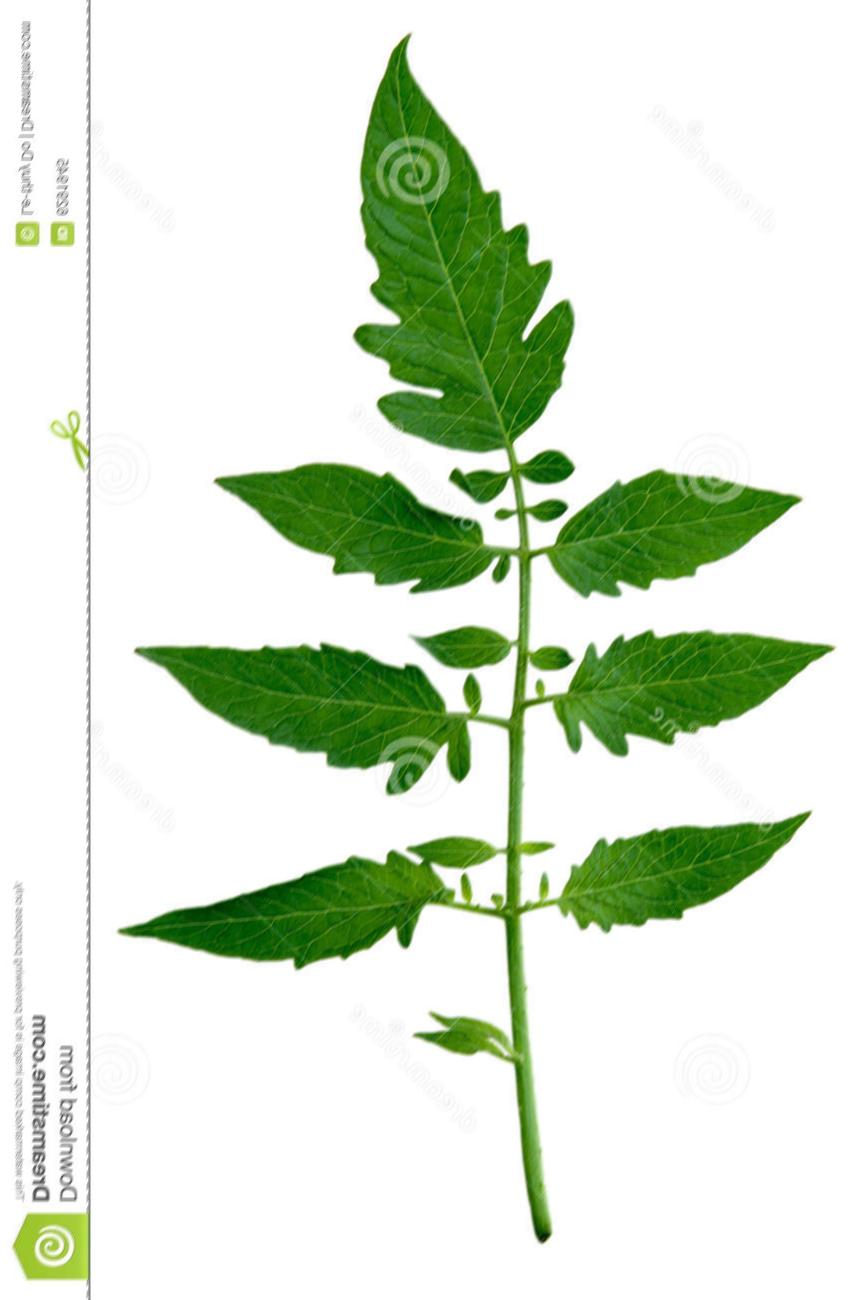Tomato leaf: (339, 46, 582, 470), (120, 616, 450, 806), (110, 831, 465, 1001), (516, 782, 824, 959), (186, 459, 518, 618), (510, 614, 850, 767), (548, 446, 807, 603)
